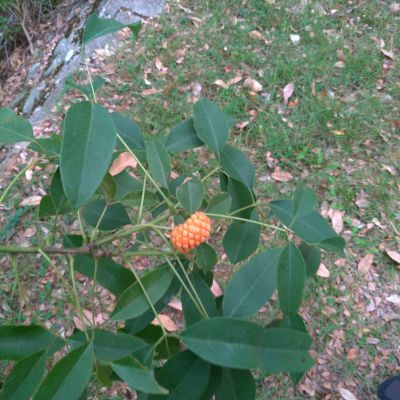eggs: (169, 208, 216, 254)
